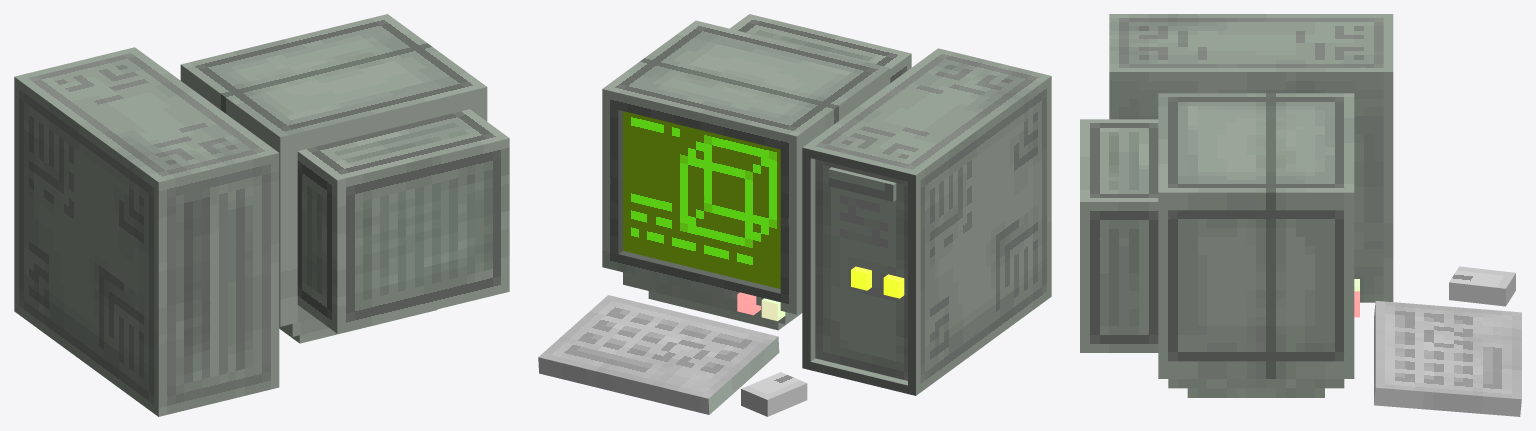
3 renders of one model, left to right at view 1: azimuth 30°, elevation 25°; view 2: azimuth 150°, elevation 25°; view 3: azimuth 270°, elevation 25°, orthographic. The views are drawn at different scales.
Parts seen in each view (by area): view 1: cube_9, cube_10, cube_4, cube_5, cube_12, cube_14, cube_3, cube_2, cube_1; view 2: cube_9, cube_4, cube_8, cube_0, cube_3, cube_10, cube_5, cube_13, cube_6, cube_12, cube_11, cube_2 (+4 smaller); view 3: cube_6, cube_9, cube_4, cube_10, cube_0, cube_3, cube_13, cube_11, cube_2, cube_1, cube_14.
Part boxes in pixels (x1,y1,x2,y2): cube_9: (19,51,279,416); cube_10: (297,109,509,333); cube_4: (180,14,487,155); cube_5: (279,151,297,308); cube_12: (14,74,27,314); cube_14: (23,49,130,77); cube_3: (279,304,315,326); cube_2: (279,318,328,336); cube_1: (279,309,437,343); cube_9: (807,48,1051,391); cube_4: (602,20,890,153); cube_8: (623,111,780,288); cube_0: (538,295,779,414); cube_3: (602,250,802,314); cube_10: (730,14,911,82); cube_5: (780,149,802,297); cube_13: (802,144,815,370); cube_6: (602,106,622,253); cube_12: (908,170,920,395); cube_11: (741,372,807,416); cube_2: (623,272,802,323); cube_6: (1158,210,1354,361); cube_9: (1109,14,1383,302); cube_4: (1158,93,1354,210); cube_10: (1080,119,1158,352); cube_0: (1374,301,1521,416); cube_3: (1158,361,1354,378); cube_13: (1383,67,1393,301); cube_11: (1449,266,1515,306); cube_2: (1168,379,1344,388); cube_1: (1187,388,1324,397); cube_14: (1383,18,1393,67).
Bounding box in the file's own units: 2.56 × 1.7 × 2.82.
Materials: 8 (7 with a texture image).
